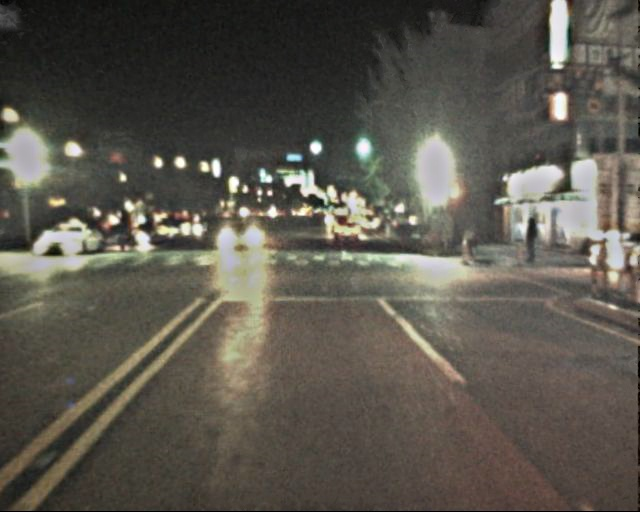person: (520, 214, 542, 267), (460, 215, 482, 268)
